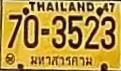0: (23, 14, 38, 47)
2: (84, 16, 98, 48)
3: (100, 16, 115, 48), (52, 15, 66, 48)
5: (67, 15, 82, 48)
7: (8, 14, 22, 48)
MKM: (29, 54, 96, 67)
